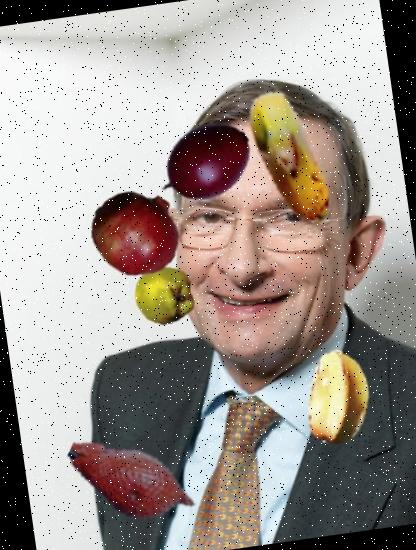Banana: (209, 78, 371, 240)
Carambula: (286, 346, 392, 452)
Pomegranate: (86, 180, 188, 284)
Quince: (130, 262, 198, 330)
Salak: (53, 406, 208, 550)
Tamarillo: (148, 107, 261, 220)
